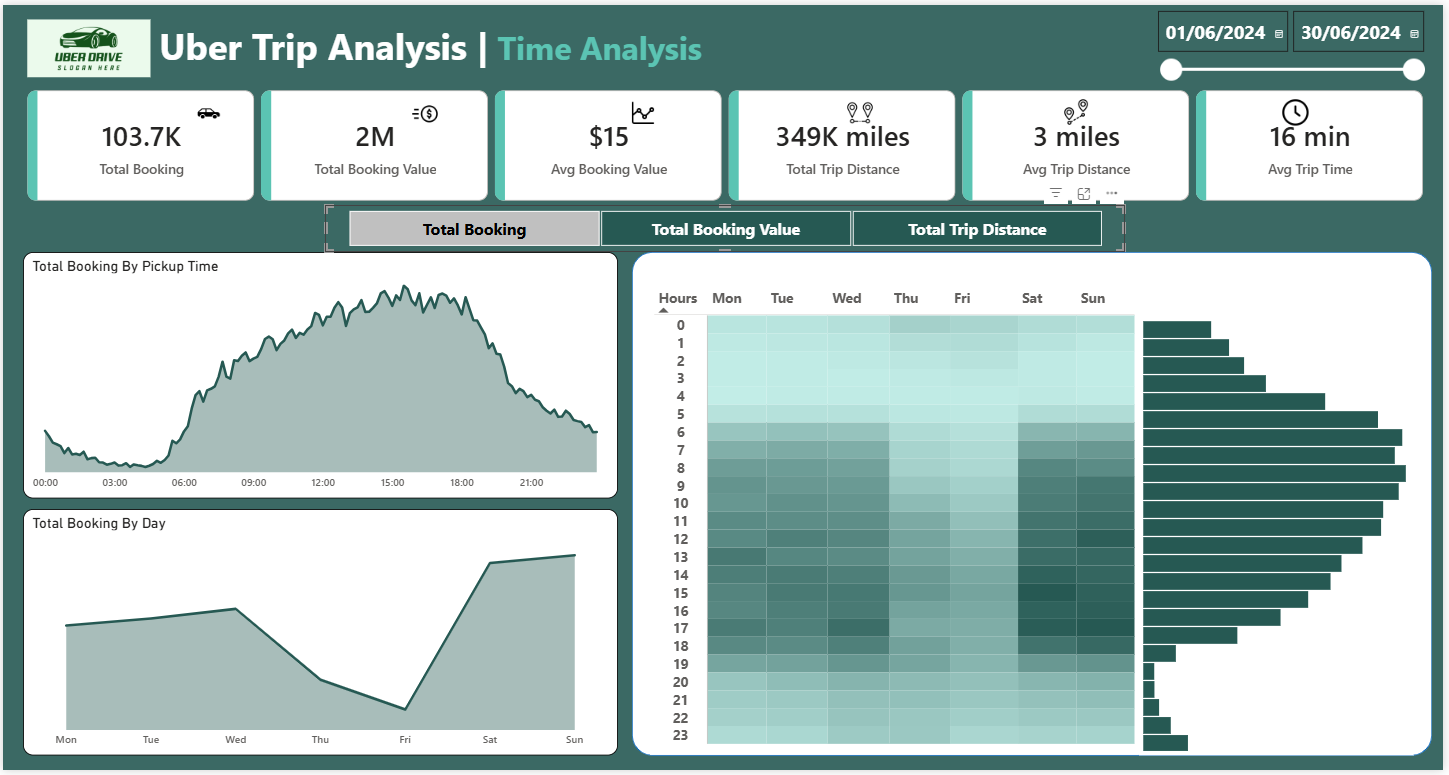

The dashboard page shown, as its layout file describes it:
{"tool":"powerbi","page":{"name":"TIME ANALYSIS","canvas":[1695,900],"ordinal":1},"visuals":[{"type":"cardVisual","fields":{"Data":["Trip Details.Total Booking","Trip Details.Total Booking Value","Trip Details.Avg Booking Value","Trip Details.Total Trip Distance","Trip Details.Avg Trip Distance","Trip Details.Avg Trip Time"]},"box":[23.8,95,1653.8,140],"z":0},{"type":"image","box":[223.8,107.4,37.1,40],"z":1000},{"type":"image","box":[476.6,107.4,40,41.4],"z":2000},{"type":"image","box":[732.4,106,40,41.4],"z":3000},{"type":"image","box":[988.1,106,40,41.4],"z":4000},{"type":"image","box":[1243.8,106,40,40],"z":5000},{"type":"image","box":[1499.5,106,41.4,41.4],"z":6000},{"type":"areaChart","fields":{"Y":["Trip Details.Total Trip Distance Value"],"Category":["Trip Details.Pick Time (bins)"]},"box":[23.8,290,700,290],"z":7000},{"type":"slicer","fields":{"Values":["Default Text.Default Text"]},"box":[378.8,235,941.2,55],"z":8000},{"type":"areaChart","fields":{"Y":["Trip Details.Total Trip Distance Value"],"Category":["Calendar Table.Day of Week"]},"box":[23.8,592.5,700,290],"z":9000},{"type":"shape","box":[740,290,941.2,592.5],"z":10000},{"type":"pivotTable","fields":{"Values":["Trip Details.Total Trip Distance Value"],"Rows":["Trip Details.Pickup Hour"],"Columns":["Calendar Table.Day of Week"]},"box":[761.2,328.8,575,553.8],"z":11000},{"type":"barChart","fields":{"Y":["Trip Details.Total Trip Distance Value"],"Category":["Trip Details.Pickup Hour"],"Series":["Default Text.Title"]},"box":[1336.2,338.8,322.5,543.8],"z":12000},{"type":"image","box":[23.8,0,155,102.5],"z":13000},{"type":"textbox","box":[178.8,13.8,817.5,73.8],"z":14000},{"type":"slicer","fields":{"Values":["Calendar Table.Date"]},"box":[1346.2,0,335,95],"z":15000}]}

Visuals, with their boxes in screenshot pixels (x1, y1, x2, y2), scaled from the page's 1695x900 canvas onto the 1449x775 screenshot:
cardVisual - Trip Details.Total Booking x Trip Details.Total Booking Value: (20,82,1434,202)
image: (191,92,223,127)
image: (407,92,442,128)
image: (626,91,660,127)
image: (845,91,879,127)
image: (1063,91,1097,126)
image: (1282,91,1317,127)
areaChart - Trip Details.Total Trip Distance Value x Trip Details.Pick Time (bins): (20,250,619,499)
slicer - Default Text.Default Text: (324,202,1128,250)
areaChart - Trip Details.Total Trip Distance Value x Calendar Table.Day of Week: (20,510,619,760)
shape: (633,250,1437,760)
pivotTable - Trip Details.Total Trip Distance Value x Trip Details.Pickup Hour: (651,283,1142,760)
barChart - Trip Details.Total Trip Distance Value x Trip Details.Pickup Hour: (1142,292,1418,760)
image: (20,0,153,88)
textbox: (153,12,852,75)
slicer - Calendar Table.Date: (1151,0,1437,82)
